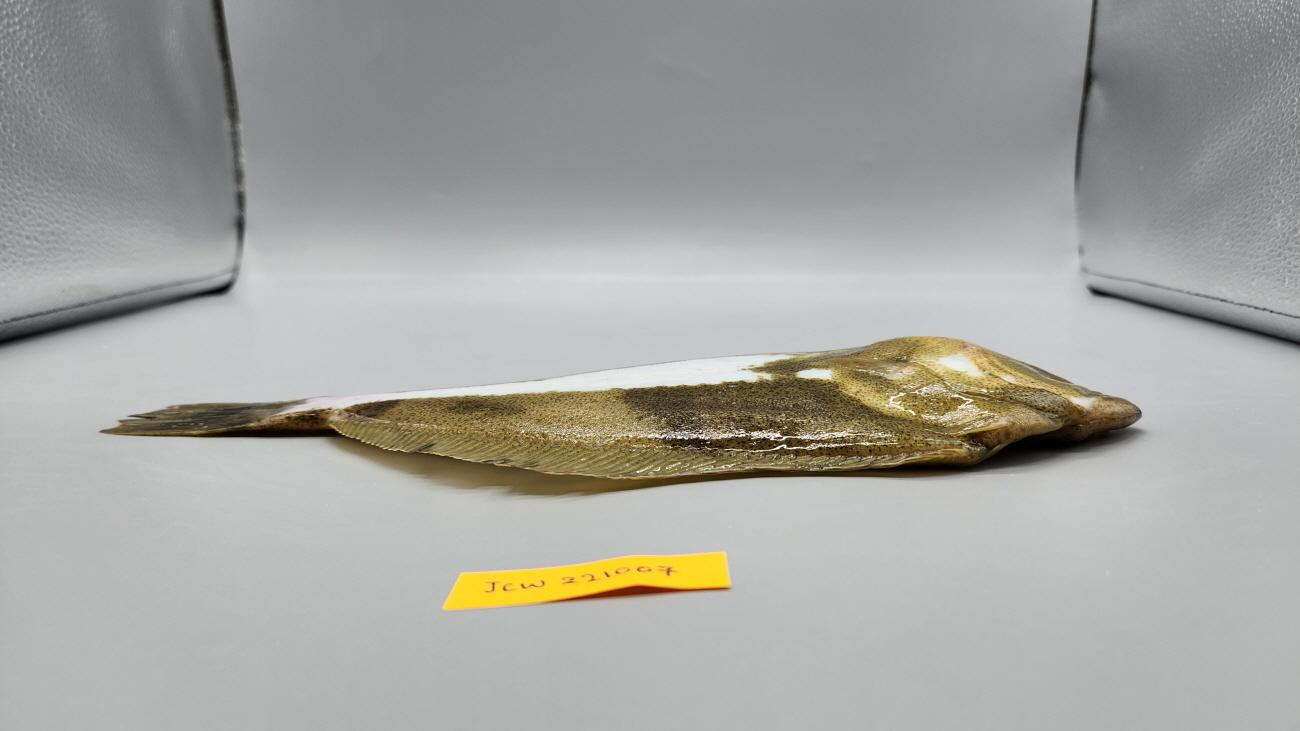POOUN: (97, 337, 1143, 480)
